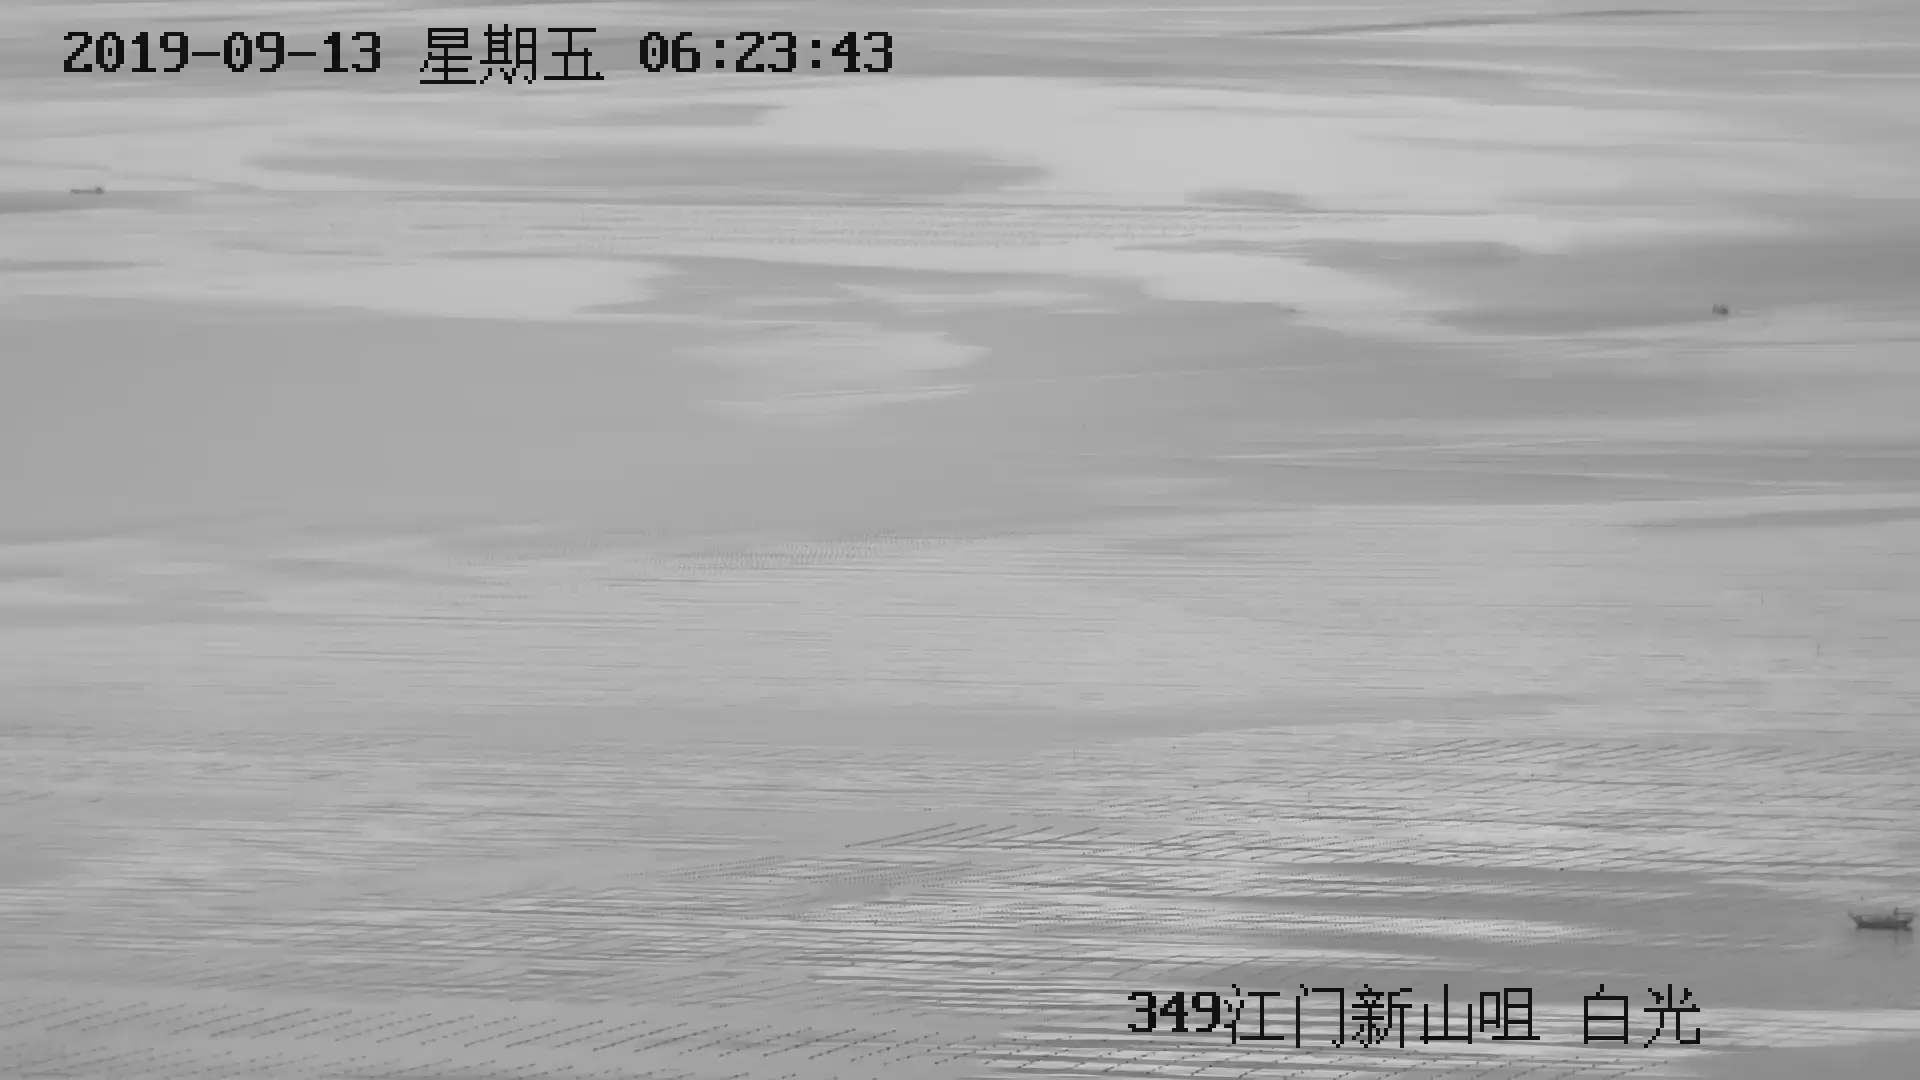ship: (1847, 903, 1913, 932)
